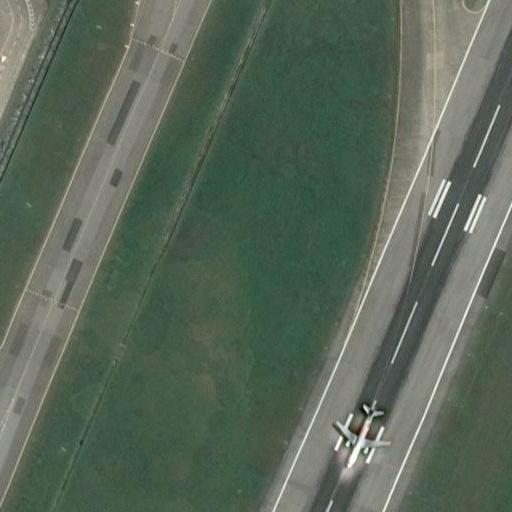Aircraft: (332, 398, 392, 470)
